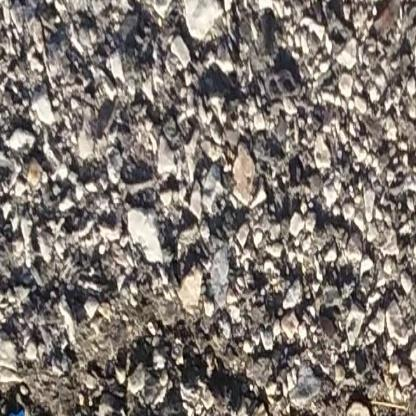Cracks: (0, 288, 298, 416), (319, 338, 416, 416)
